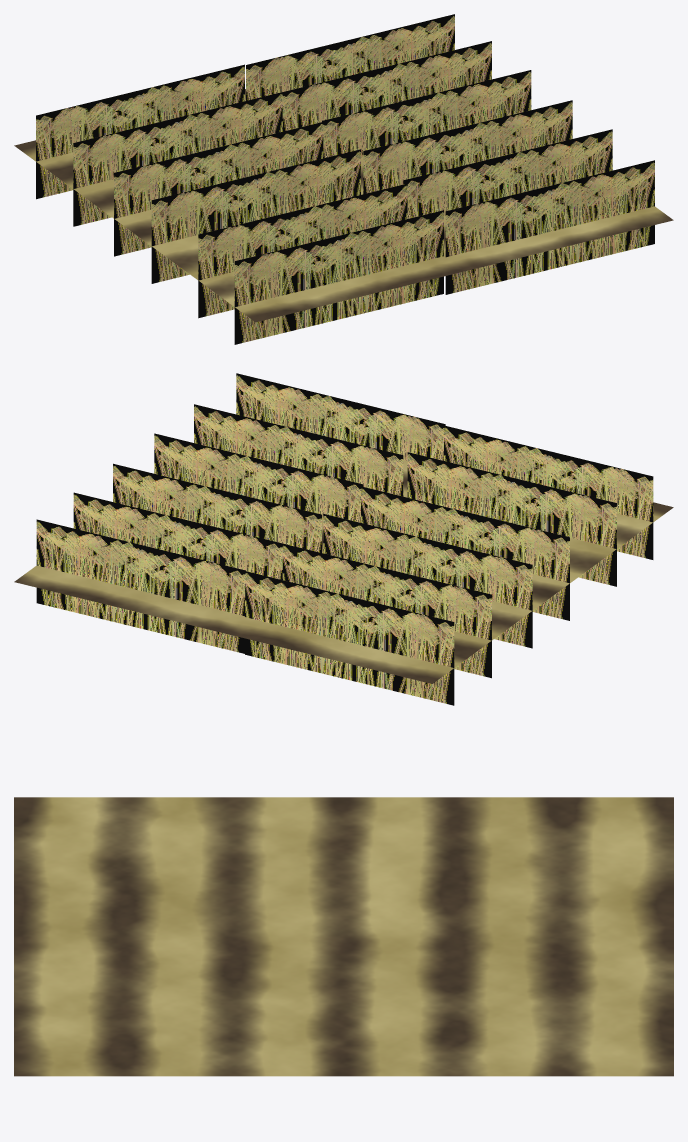
The model's file is Crop_Barley_1.gltf.
3 renders of one model, top to bottom at view 1: azimuth 30°, elevation 25°; view 2: azimuth 150°, elevation 25°; view 3: azimuth 270°, elevation 25°, orthographic. The views are drawn at different scales.
Parts seen in each view (by area): view 1: Crop_Barley_1; view 2: Crop_Barley_1; view 3: Crop_Barley_1.
Boxes of the visible parts, x1,y1,x2,y2 form: Crop_Barley_1: [14, 14, 673, 344]; Crop_Barley_1: [14, 373, 673, 705]; Crop_Barley_1: [14, 797, 673, 1076].
Bounding box in the file's own units: 4 × 0.7647 × 4.
Materials: 2 (2 with a texture image).
